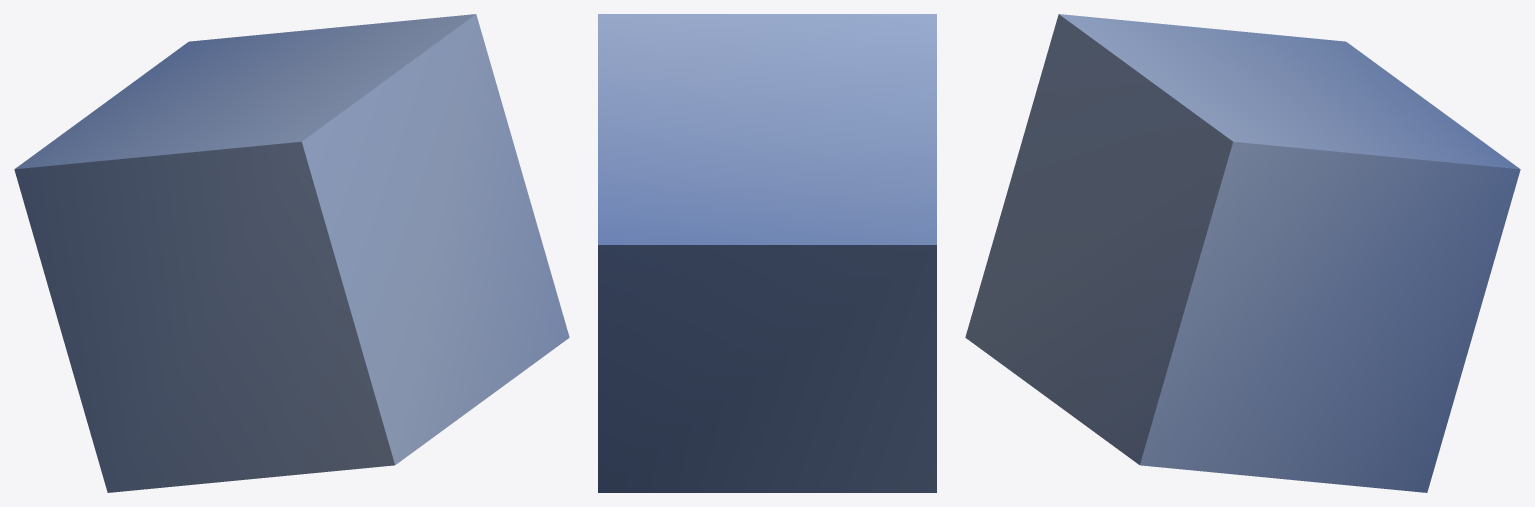
File: cube_asset_simple.glb
3 views of the same model, side by side, from view 1: azimuth 30°, elevation 25°; view 2: azimuth 150°, elevation 25°; view 3: azimuth 270°, elevation 25° (orthographic). The views are drawn at different scales.
Visible parts, largest first — view 1: cube_asset_simple; view 2: cube_asset_simple; view 3: cube_asset_simple.
Boxes of the visible parts, x1,y1,x2,y2 form: cube_asset_simple: (14,14,569,492); cube_asset_simple: (598,14,936,492); cube_asset_simple: (965,14,1520,492).
Size of the model in its own units: 1.5 by 1.26 by 1.59.
